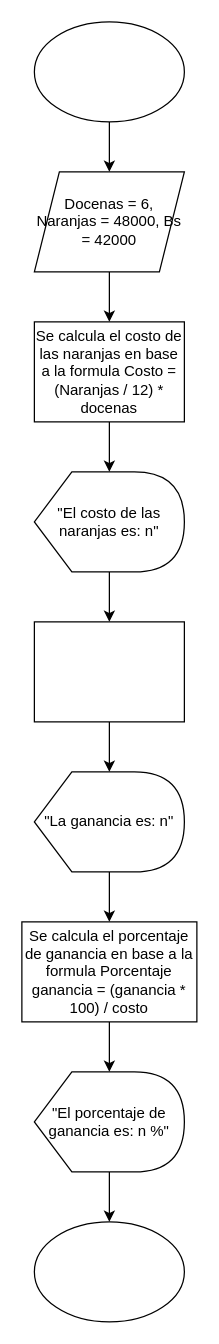
Some shapes in this 219 by 1344 pixel diagram are drawn without their labels. Here are the shapes that lost their labels. From the top down, the centre of each, then its label:
At point 108,71: "Inicio".
At point 108,671: "Se calcula la ganancia en base a la formula Ganancia = Bs - Costo".
At point 108,1271: "Fin".
